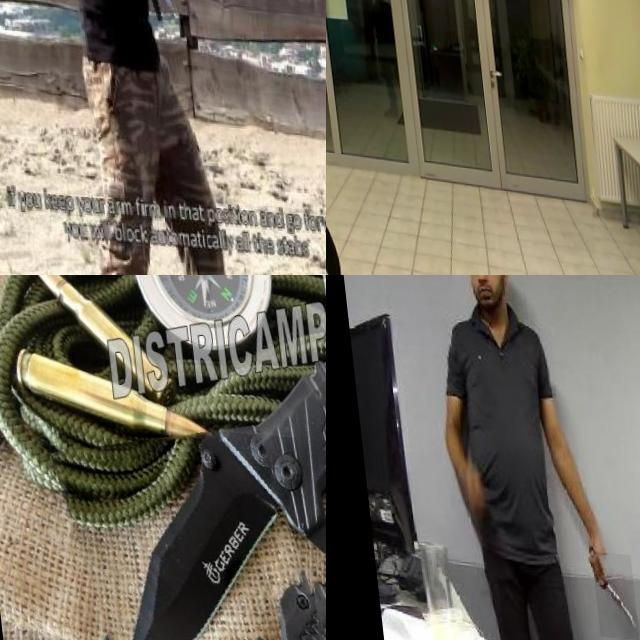-: (50, 417, 312, 640), (582, 548, 628, 636), (119, 0, 165, 65)
gun-knife-thesis - v11 Yolov5 augmented: (326, 50, 344, 87)
